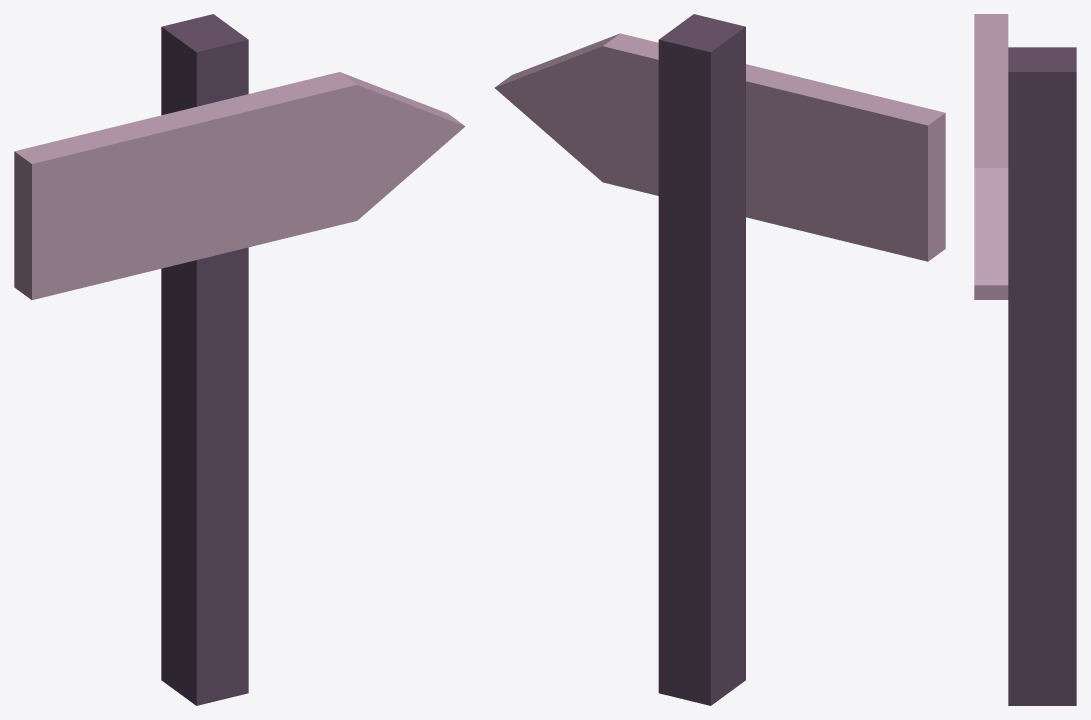
File: TW_SIGN_ARROW_A_LOD0.glb
The picture shows the model from 3 angles, left to right: view 1: azimuth 30°, elevation 25°; view 2: azimuth 150°, elevation 25°; view 3: azimuth 270°, elevation 25°; orthographic projection. The views are drawn at different scales.
Visible parts, largest first — view 1: TW_SIGN_ARROW_A_LOD0; view 2: TW_SIGN_ARROW_A_LOD0; view 3: TW_SIGN_ARROW_A_LOD0.
Boxes of the visible parts, x1,y1,x2,y2 form: TW_SIGN_ARROW_A_LOD0: (14, 14, 465, 705); TW_SIGN_ARROW_A_LOD0: (494, 14, 945, 705); TW_SIGN_ARROW_A_LOD0: (974, 14, 1076, 705).
Bounding box in the file's own units: 1 × 1.44 × 0.21.
1 material, 1 textured.
